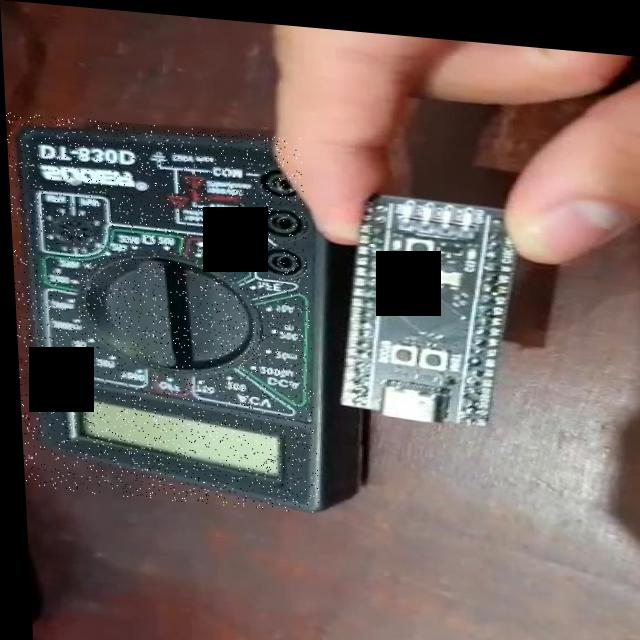multimeter: (5, 112, 315, 509)
stm32: (312, 189, 524, 432)
